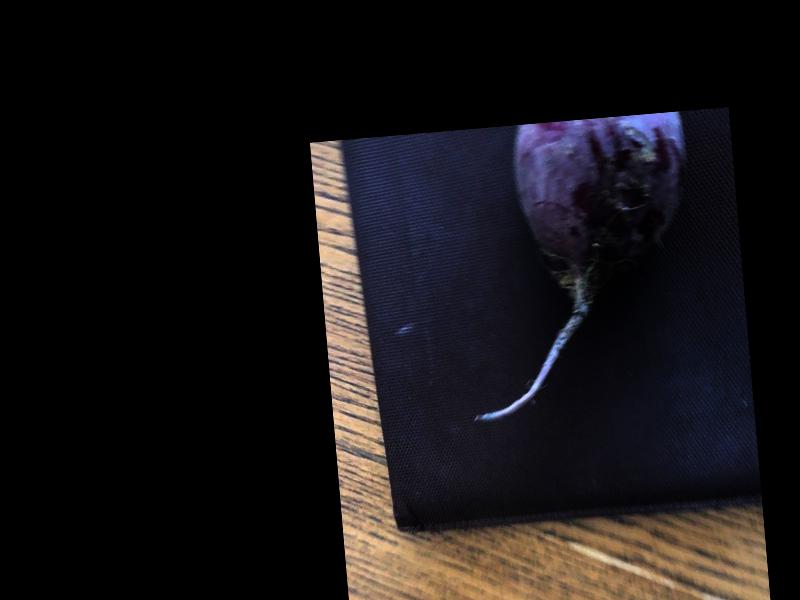Beet: (452, 113, 706, 422)
